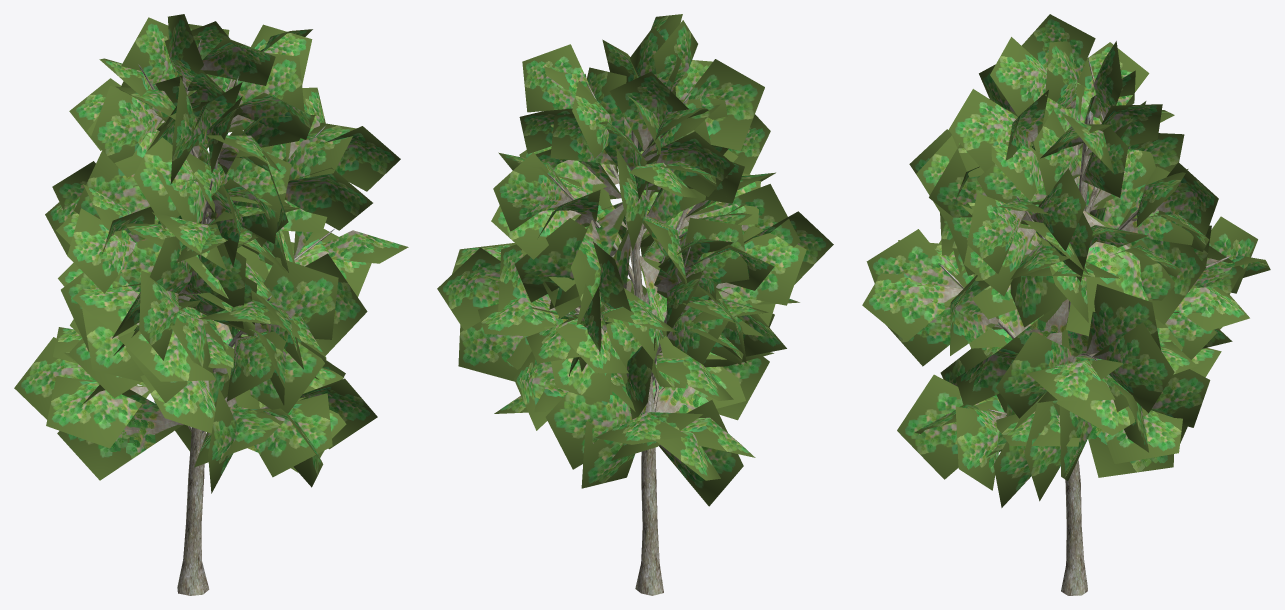
File: Red_Maple_Young_LowPoly.fbx
3 renders of one model, left to right at view 1: azimuth 30°, elevation 25°; view 2: azimuth 150°, elevation 25°; view 3: azimuth 270°, elevation 25°, orthographic. The views are drawn at different scales.
Visible parts, largest first — view 1: Red_Maple_Mobile_Young_6; view 2: Red_Maple_Mobile_Young_6; view 3: Red_Maple_Mobile_Young_6.
Boxes of the visible parts, box(x1,y1,x2,y2) form: Red_Maple_Mobile_Young_6: box(14, 14, 408, 595); Red_Maple_Mobile_Young_6: box(437, 14, 833, 595); Red_Maple_Mobile_Young_6: box(862, 14, 1270, 595).
Size of the model in its own units: 1.32 by 2.22 by 1.46.
3 materials, 3 textured.
